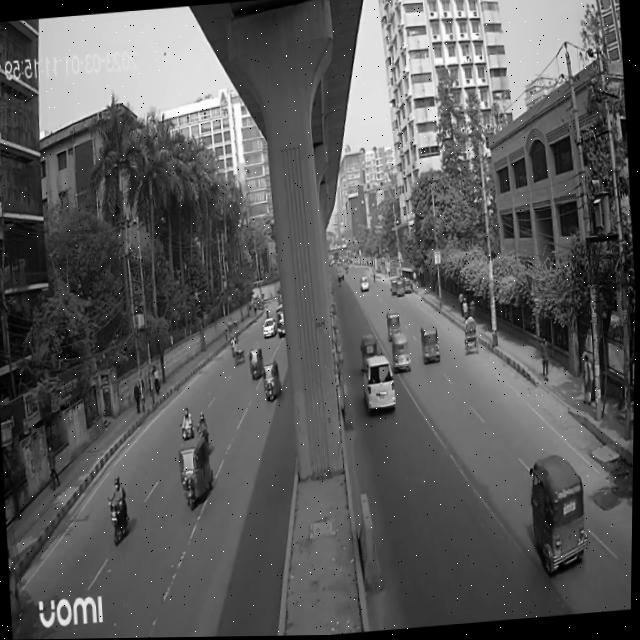cng: (527, 444, 593, 580), (172, 430, 216, 514), (390, 329, 416, 381), (419, 321, 445, 373), (359, 329, 385, 377), (261, 357, 281, 408), (245, 347, 266, 388), (384, 311, 403, 343)
rikshaw: (463, 314, 481, 360)
